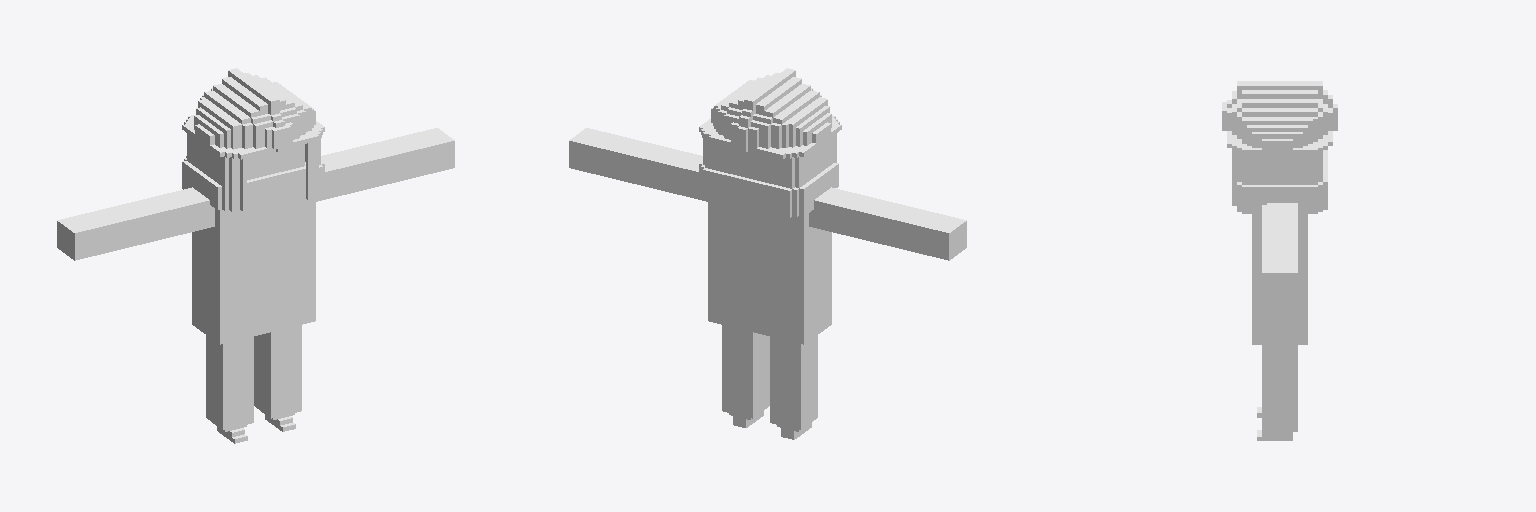
File: FF.Tposevox.obj
The picture shows the model from 3 angles: view 1: azimuth 30°, elevation 25°; view 2: azimuth 150°, elevation 25°; view 3: azimuth 270°, elevation 25°; orthographic projection.
Parts seen in each view (by area): view 1: object 1; view 2: object 1; view 3: object 1.
Part boxes in pixels (x1,y1,x2,y2): object 1: (57, 68, 454, 443); object 1: (569, 68, 966, 439); object 1: (1222, 81, 1337, 440).
Bounding box in the file's own units: 8.7 × 7.5 × 2.3.